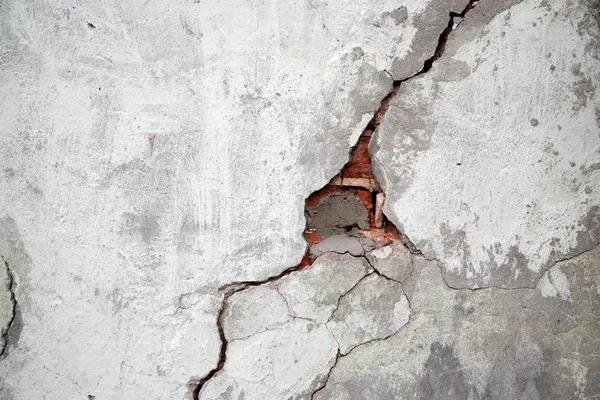Crack: (172, 0, 497, 400), (0, 249, 23, 365)
